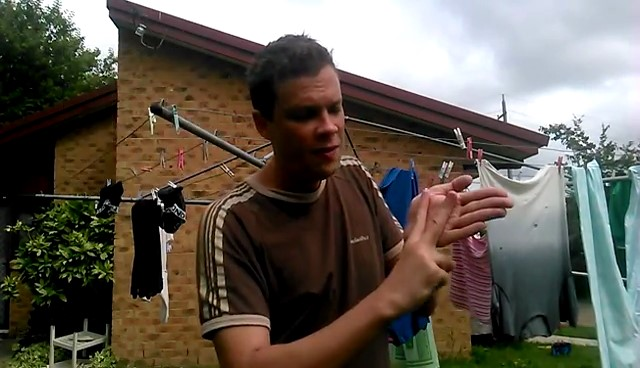V: (368, 168, 521, 324)
